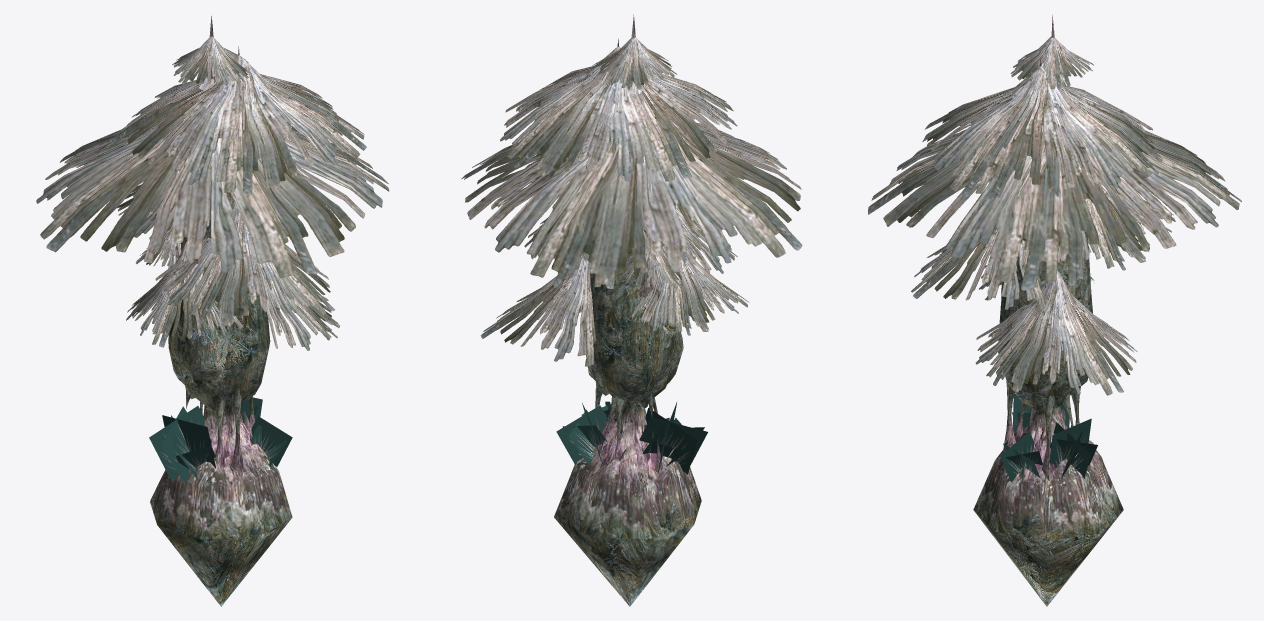
File: rock_crystl_tree_med_l0.fbx
The picture shows the model from 3 angles, left to right: view 1: azimuth 30°, elevation 25°; view 2: azimuth 150°, elevation 25°; view 3: azimuth 270°, elevation 25°; orthographic projection.
Parts seen in each view (by area): view 1: mesh_node; view 2: mesh_node; view 3: mesh_node.
Part boxes in pixels (box(x1,y1,x2,y2)): mesh_node: box(36, 16, 389, 606); mesh_node: box(461, 14, 802, 606); mesh_node: box(868, 15, 1241, 606).
Size of the model in its own units: 22.56 by 37.57 by 22.56.
